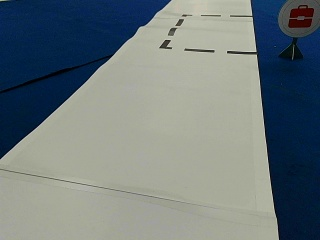company: (279, 0, 318, 36)
